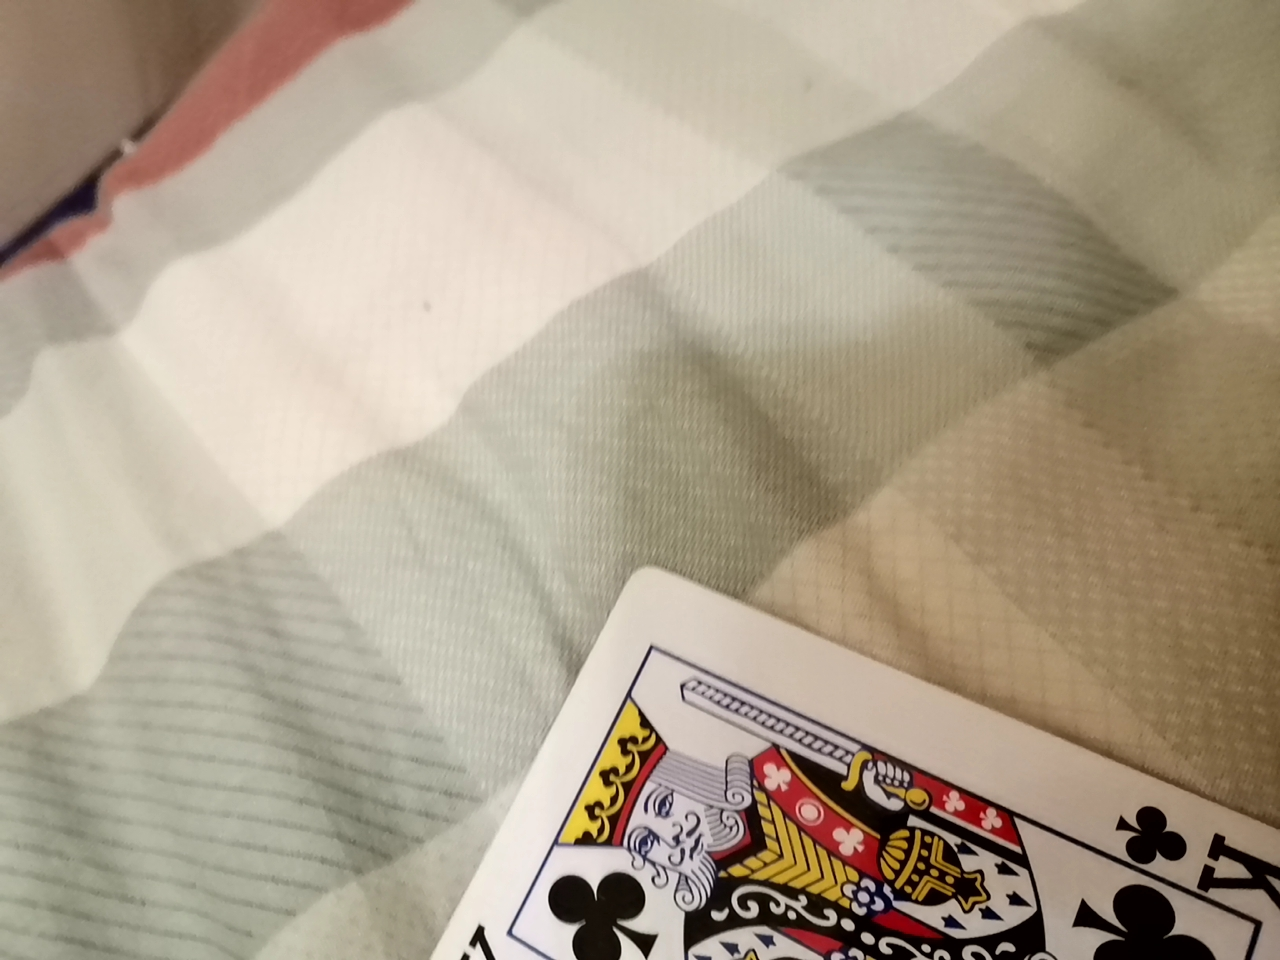mh k: (395, 563, 1277, 951)
